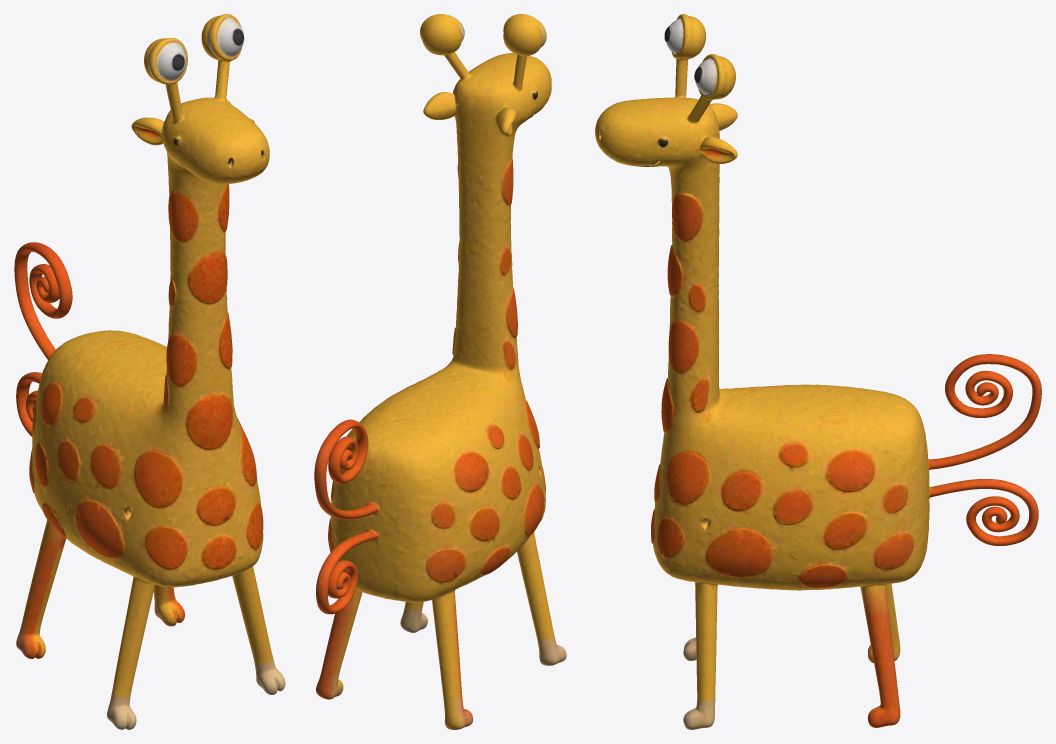
The model's file is giraffe.glb.
The picture shows the model from 3 angles, left to right: view 1: azimuth 30°, elevation 25°; view 2: azimuth 150°, elevation 25°; view 3: azimuth 270°, elevation 25°; orthographic projection. The views are drawn at different scales.
Visible parts, largest first — view 1: mesh_node; view 2: mesh_node; view 3: mesh_node.
Part boxes in pixels (left/top/right/bottom): mesh_node: left=14, top=14, right=285, bottom=729; mesh_node: left=314, top=14, right=566, bottom=729; mesh_node: left=595, top=14, right=1041, bottom=729.
Size of the model in its own units: 0.4942 by 1.9 by 1.16.
1 material, 1 textured.
